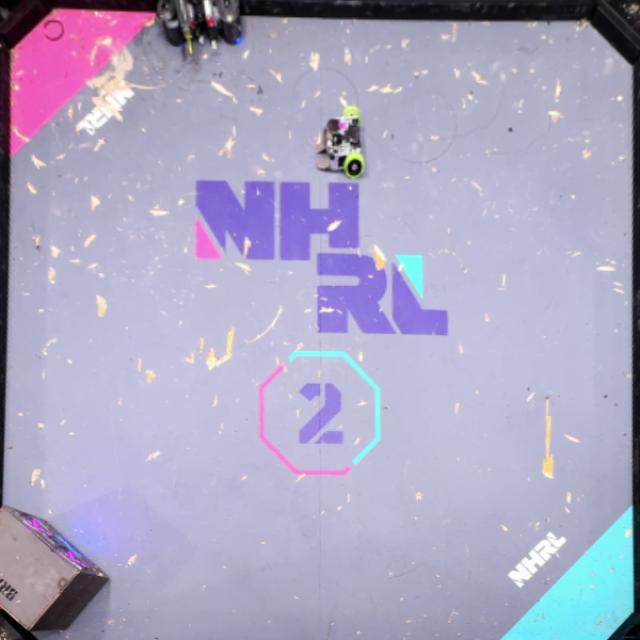housebot: (1, 505, 110, 634)
robot: (158, 0, 246, 58), (315, 105, 363, 182)
